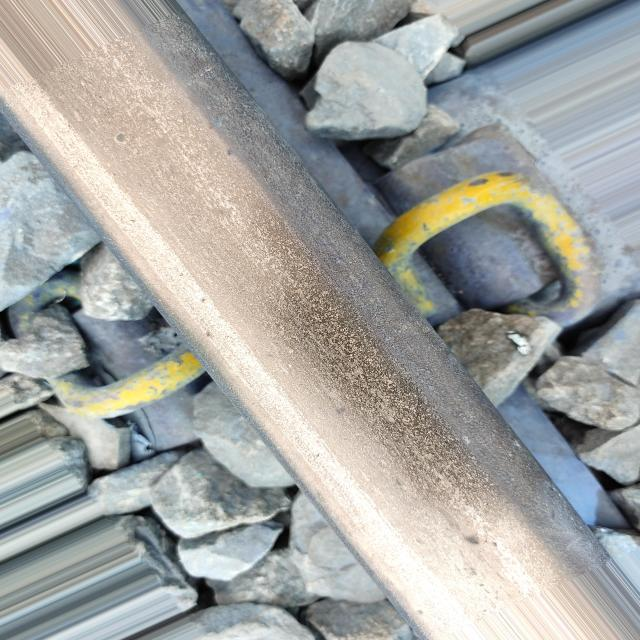Good Fasteners: (373, 123, 637, 328), (7, 243, 205, 450)
